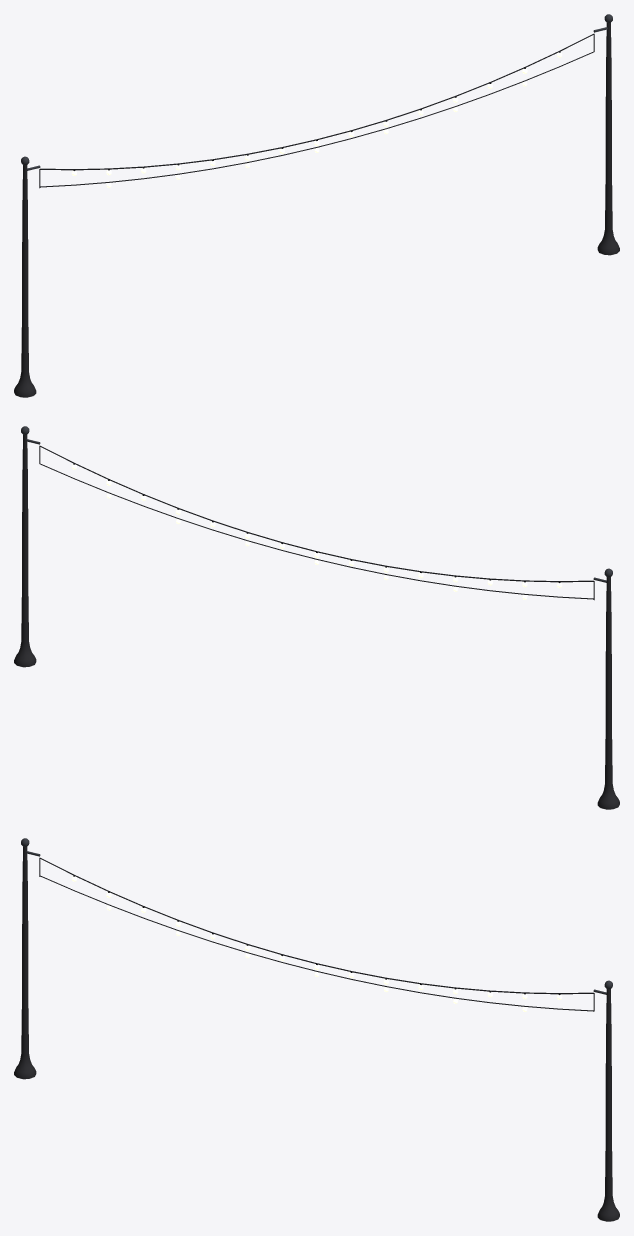
File: string_lights_span.glb
3 views of the same model, one above another, from view 1: azimuth 30°, elevation 25°; view 2: azimuth 150°, elevation 25°; view 3: azimuth 330°, elevation 25° (orthographic).
Parts seen in each view (by area): view 1: string_lights_span; view 2: string_lights_span; view 3: string_lights_span.
Boxes of the visible parts, x1,y1,x2,y2 form: string_lights_span: [14, 14, 619, 397]; string_lights_span: [14, 426, 619, 809]; string_lights_span: [14, 838, 619, 1221].
Size of the model in its own units: 12.4 by 4.66 by 0.3804.
